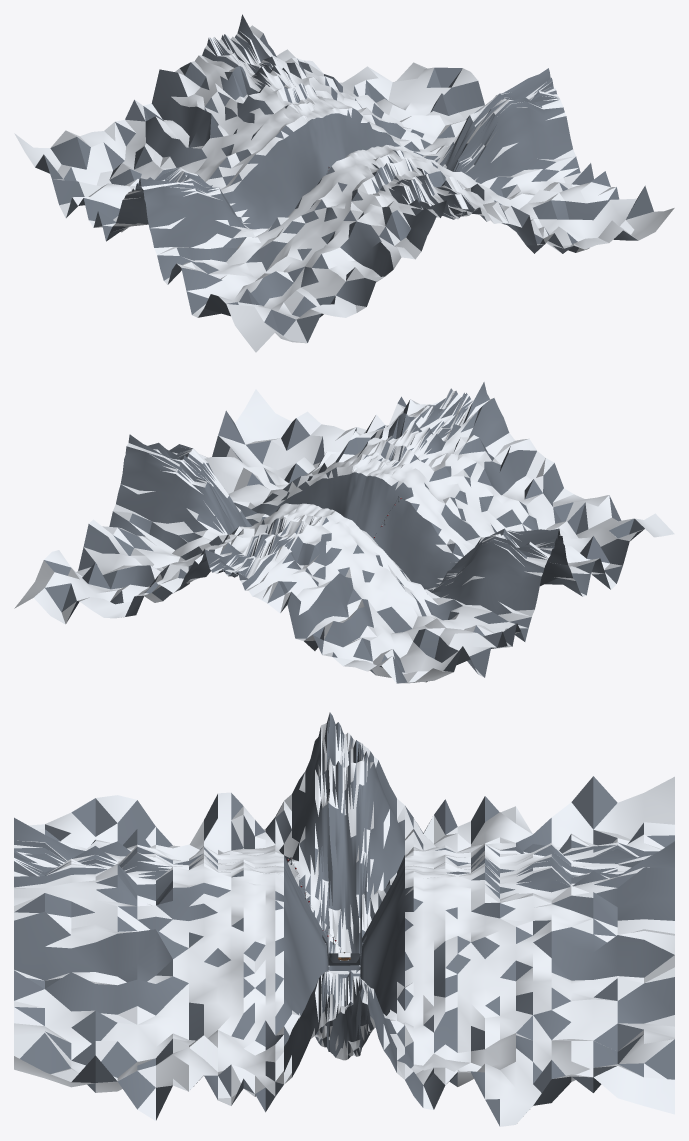
The model's file is Kit.fbx.
3 views of the same model, one above another, from view 1: azimuth 30°, elevation 25°; view 2: azimuth 150°, elevation 25°; view 3: azimuth 270°, elevation 25° (orthographic). The views are drawn at different scales.
Visible parts, largest first — view 1: Range_Rock1, Range_Snow1, Range_Snow0, Range_Rock0; view 2: Range_Rock1, Range_Snow1, Range_Snow0, Range_Rock0; view 3: Range_Snow0, Range_Rock0, Range_Rock1, Range_Snow1.
Part boxes in pixels (x1,y1,x2,y2): Range_Rock1: [35, 35, 464, 342]; Range_Snow1: [14, 37, 463, 352]; Range_Snow0: [224, 25, 674, 252]; Range_Rock0: [223, 14, 653, 253]; Range_Rock1: [224, 382, 644, 683]; Range_Snow1: [226, 394, 674, 683]; Range_Snow0: [14, 388, 461, 624]; Range_Rock0: [44, 388, 465, 623]; Range_Snow0: [14, 852, 674, 1126]; Range_Rock0: [14, 842, 674, 1126]; Range_Rock1: [14, 712, 674, 965]; Range_Snow1: [14, 723, 674, 955].
Size of the model in its own units: 3000 by 928 by 3000.
